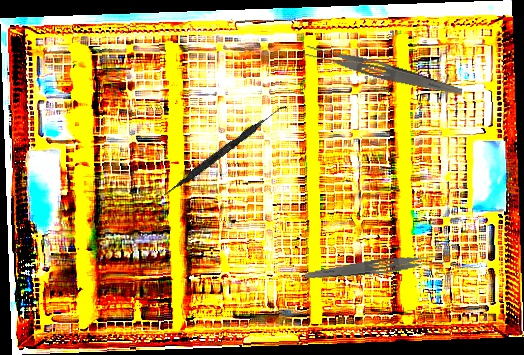Dressing Forceps: (303, 41, 465, 99), (304, 250, 447, 286)
Spatula Surgical: (162, 100, 287, 201)
